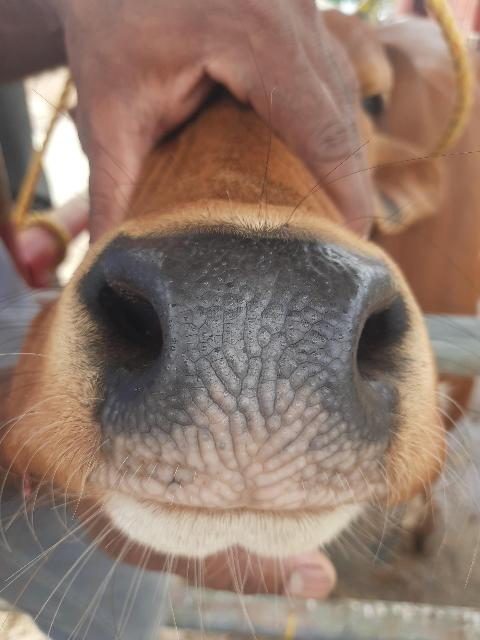Muzzle: (103, 246, 381, 480)
